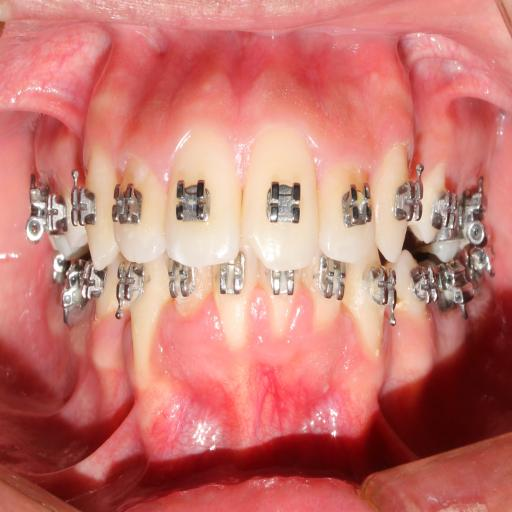correct_brace: (262, 177, 306, 230), (172, 175, 213, 222), (342, 177, 373, 232), (112, 180, 144, 232), (394, 176, 428, 221), (70, 183, 96, 231)
incorrect_brace: (318, 152, 379, 272), (113, 156, 166, 266)
